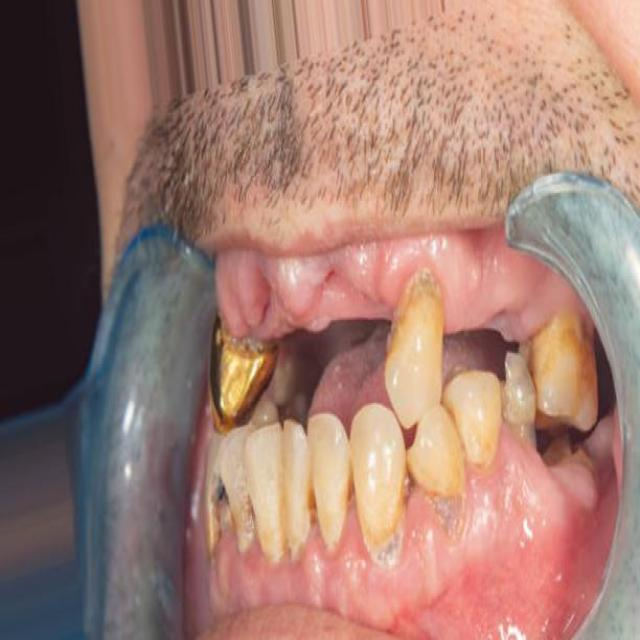caries: (201, 468, 244, 554), (497, 346, 538, 436), (423, 478, 472, 544)
